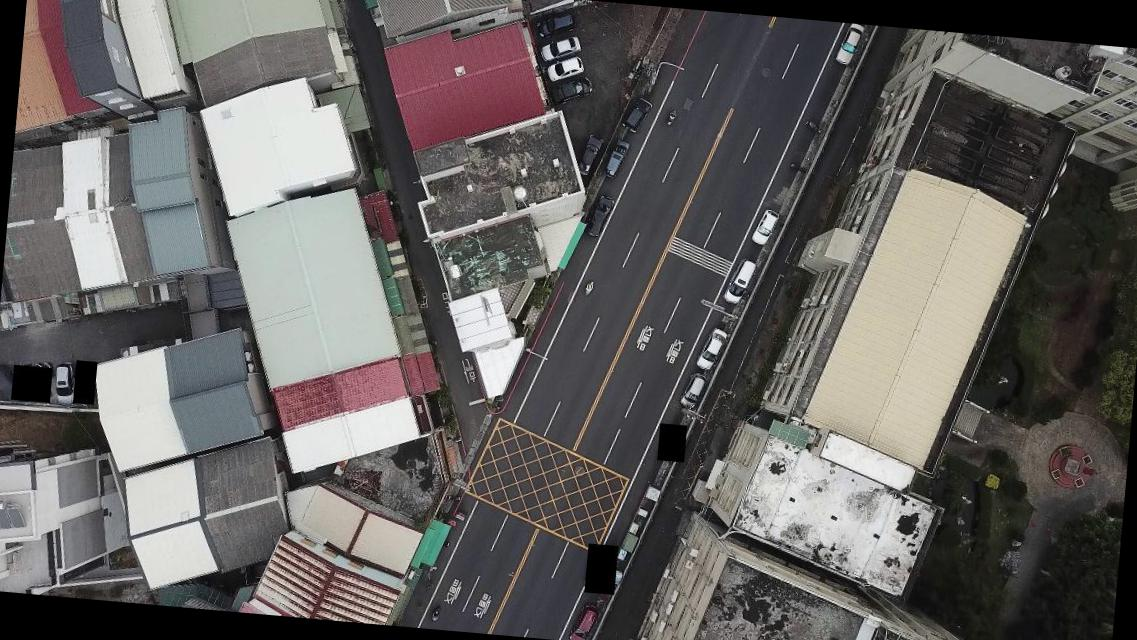vehicle: (721, 258, 758, 306), (832, 23, 867, 68), (548, 74, 594, 108), (695, 326, 727, 372), (538, 34, 583, 66), (584, 193, 614, 240), (599, 138, 630, 180), (575, 133, 604, 177), (544, 55, 586, 85), (534, 10, 576, 40), (619, 96, 652, 134), (749, 208, 779, 248), (52, 360, 78, 406), (567, 603, 600, 639), (678, 372, 706, 411)
